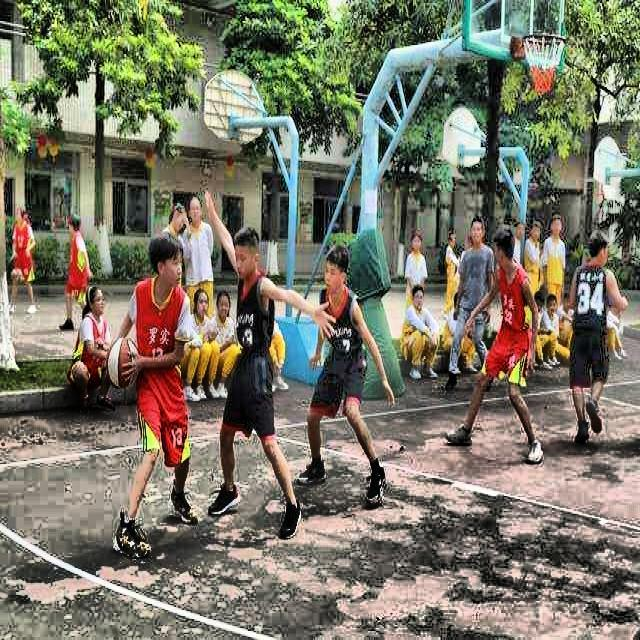rim: (522, 32, 565, 92)
